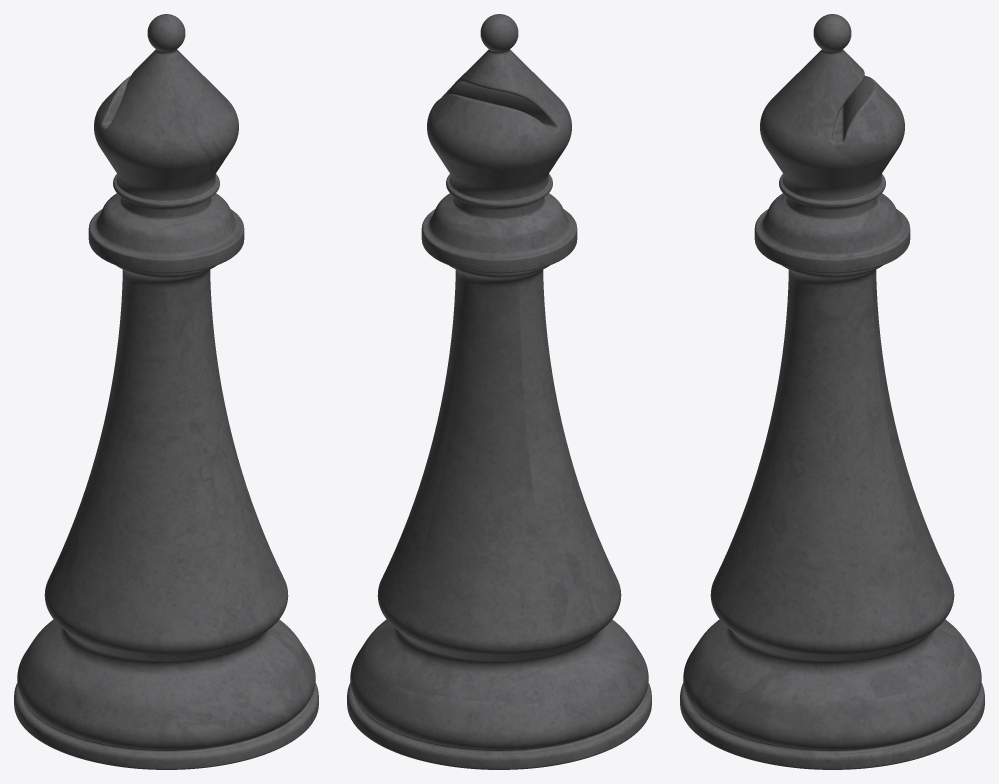
The model's file is bbishop.glb.
3 views of the same model, side by side, from view 1: azimuth 30°, elevation 25°; view 2: azimuth 150°, elevation 25°; view 3: azimuth 270°, elevation 25° (orthographic).
Parts seen in each view (by area): view 1: BishoP.001; view 2: BishoP.001; view 3: BishoP.001.
Part boxes in pixels (left/top/right/bottom): BishoP.001: left=14, top=14, right=318, bottom=769; BishoP.001: left=347, top=14, right=651, bottom=769; BishoP.001: left=680, top=14, right=984, bottom=769.
Size of the model in its own units: 0.028 by 0.07 by 0.028.
1 material, 1 textured.
